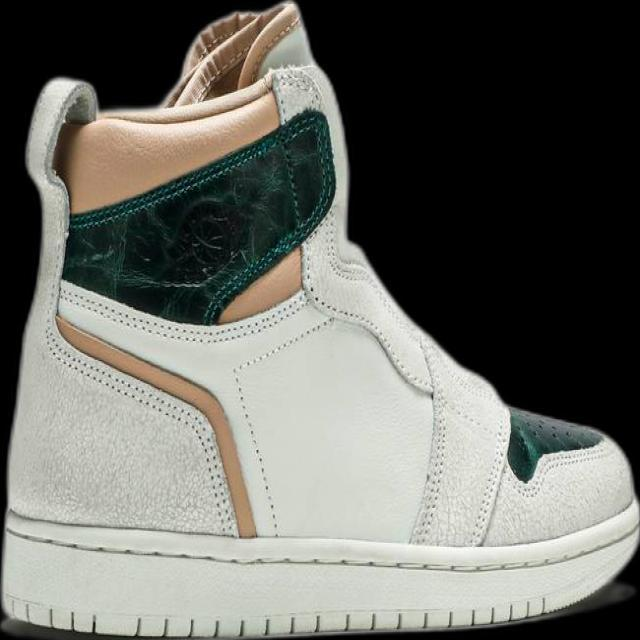J1_InsoleChar: (0, 0, 639, 639)
J1_ShoeLogo: (60, 64, 337, 326)
J1_StitchPattern: (42, 313, 256, 537), (1, 507, 639, 577), (2, 593, 552, 639), (42, 323, 213, 441), (55, 278, 306, 344), (407, 397, 512, 548), (160, 0, 303, 107), (229, 365, 282, 538), (268, 62, 325, 125)
